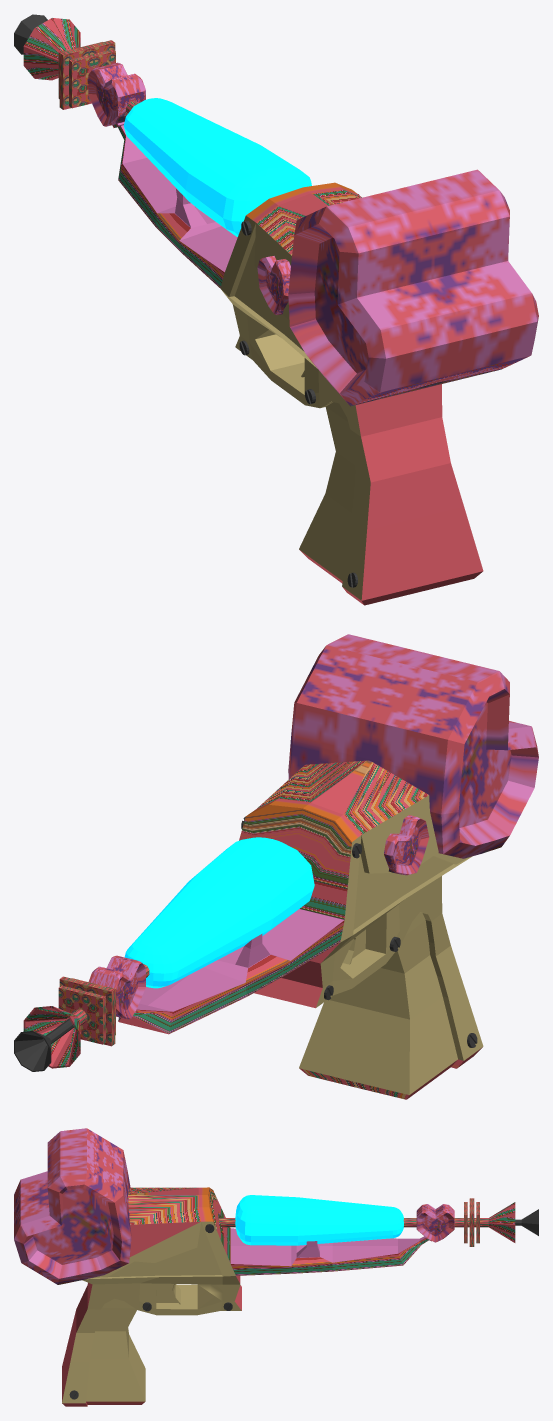
File: Pistola (1).glb
3 views of the same model, one above another, from view 1: azimuth 30°, elevation 25°; view 2: azimuth 150°, elevation 25°; view 3: azimuth 270°, elevation 25° (orthographic). The views are drawn at different scales.
Visible parts, largest first — view 1: Arma, Coração atras, Tambor?, Coração frente, Tubin, Cadrado, Coração meio; view 2: Arma, Coração atras, Tambor?, Cadrado, Tubin, Coração frente, Coração meio, Tubin.001; view 3: Arma, Coração atras, Tambor?, Tubin, Coração frente, Cadrado, Tubin.001.
Part boxes in pixels (x1,y1,x2,y2): Arma: (112,122,483,605); Coração atras: (288,169,538,406); Tambor?: (123,98,311,236); Coração frente: (88,62,145,126); Tubin: (23,18,138,113); Cadrado: (58,40,115,109); Coração meio: (257,256,290,314); Arma: (118,760,483,1099); Coração atras: (288,634,538,858); Tambor?: (124,837,314,988); Cadrado: (58,976,115,1046); Tubin: (23,964,149,1068); Coração frente: (88,955,145,1019); Coração meio: (384,815,429,875); Tubin.001: (14,1019,74,1071); Arma: (62,1187,431,1406); Coração atras: (14,1128,131,1284); Tambor?: (235,1195,403,1245); Tubin: (218,1202,515,1242); Coração frente: (416,1204,454,1242); Cadrado: (464,1198,479,1246); Tubin.001: (515,1209,538,1235).
Size of the model in its own units: 0.1782 by 0.3915 by 0.7776.
4 materials, 2 textured.
